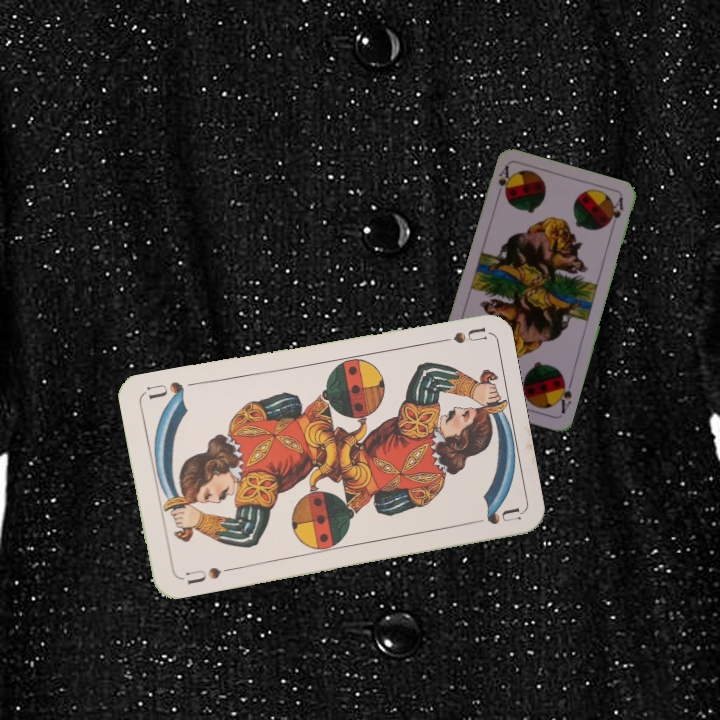SA: (552, 375, 575, 416), (492, 162, 513, 202)
SU: (428, 323, 487, 347), (181, 563, 235, 587)
